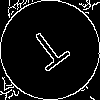T: (25, 25, 77, 80)
